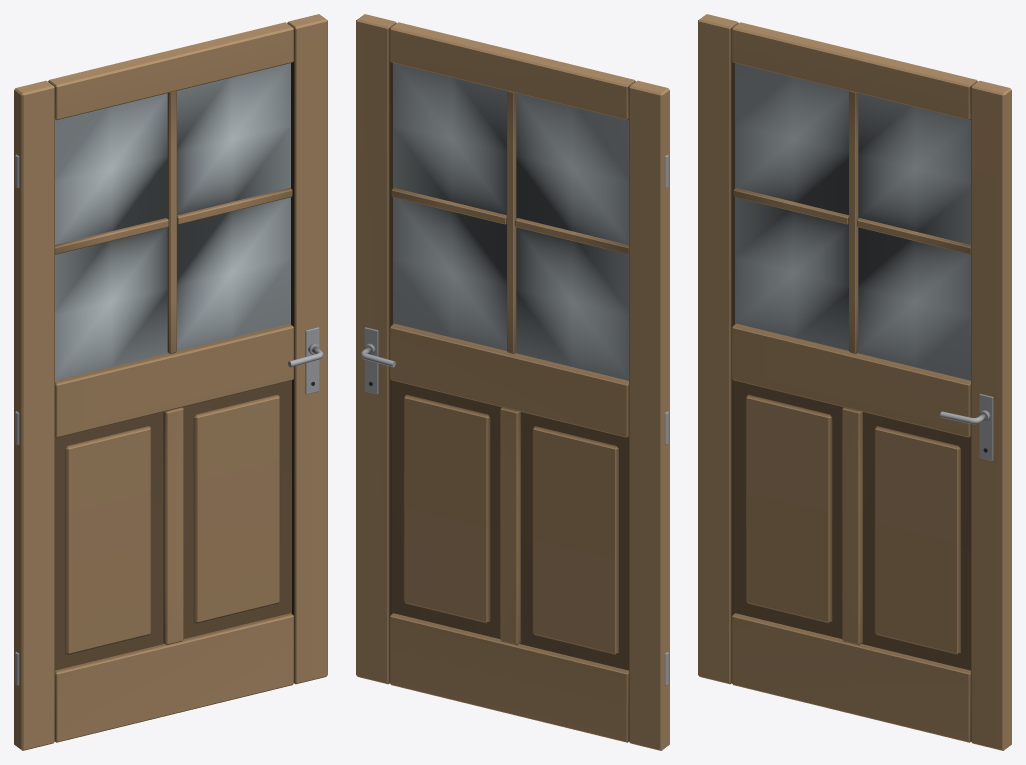
Rendered from door_wood.glb.
3 views of the same model, side by side, from view 1: azimuth 30°, elevation 25°; view 2: azimuth 150°, elevation 25°; view 3: azimuth 330°, elevation 25° (orthographic).
Visible parts, largest first — view 1: PART; view 2: PART; view 3: PART.
Boxes of the visible parts, x1=… form: PART: x1=14, y1=14, x2=327, y2=750; PART: x1=356, y1=14, x2=669, y2=750; PART: x1=698, y1=14, x2=1011, y2=750.
Size of the model in its own units: 1.01 by 2.05 by 0.1991.
